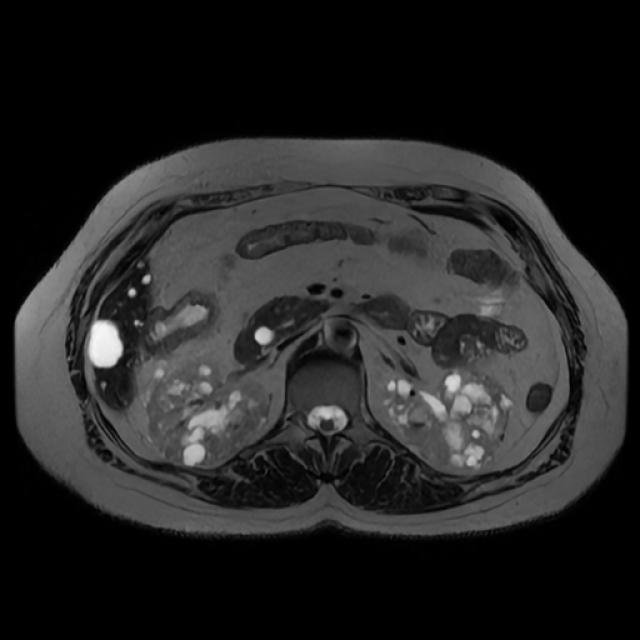sag: (144, 357, 273, 464)
sol: (384, 365, 511, 470)
